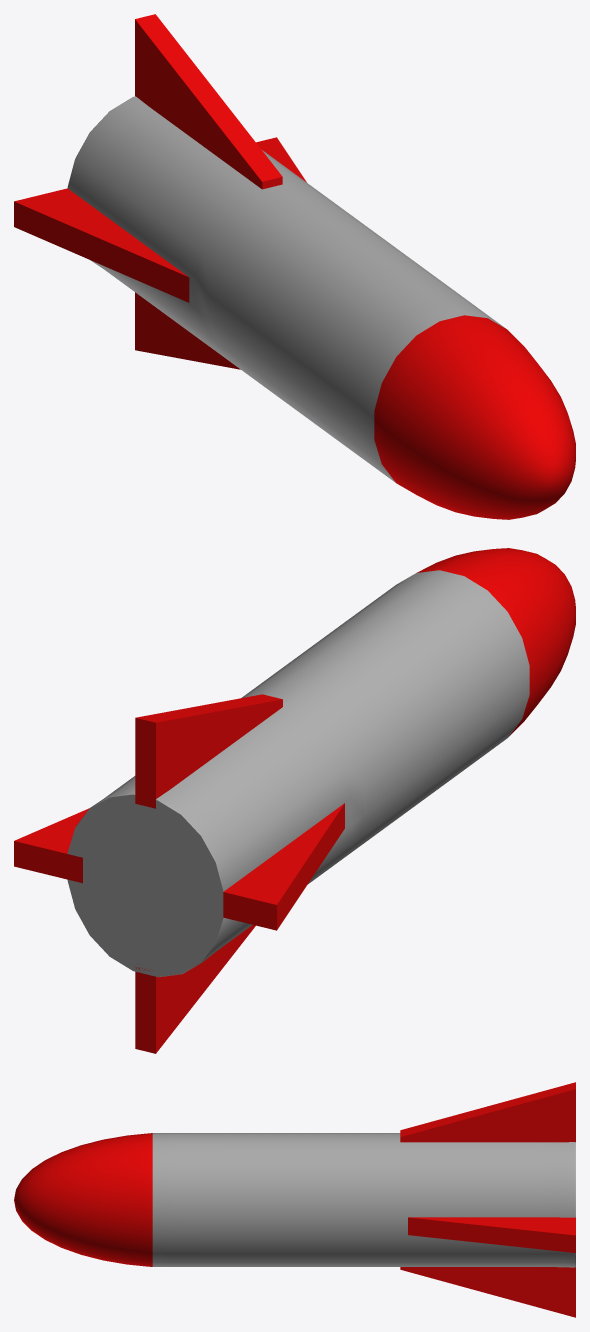
Rendered from misil.fbx.
3 views of the same model, one above another, from view 1: azimuth 30°, elevation 25°; view 2: azimuth 150°, elevation 25°; view 3: azimuth 270°, elevation 25° (orthographic). The views are drawn at different scales.
Visible parts, largest first — view 1: cuerpo, aleron; view 2: cuerpo, aleron; view 3: cuerpo, aleron.
Part boxes in pixels (bbox=[...]): cuerpo: bbox=[67, 96, 575, 519]; aleron: bbox=[14, 14, 306, 369]; cuerpo: bbox=[67, 548, 575, 977]; aleron: bbox=[14, 694, 344, 1053]; cuerpo: bbox=[14, 1133, 575, 1267]; aleron: bbox=[400, 1082, 575, 1317].
Size of the model in its own units: 0.3284 by 0.3953 by 0.8803.
